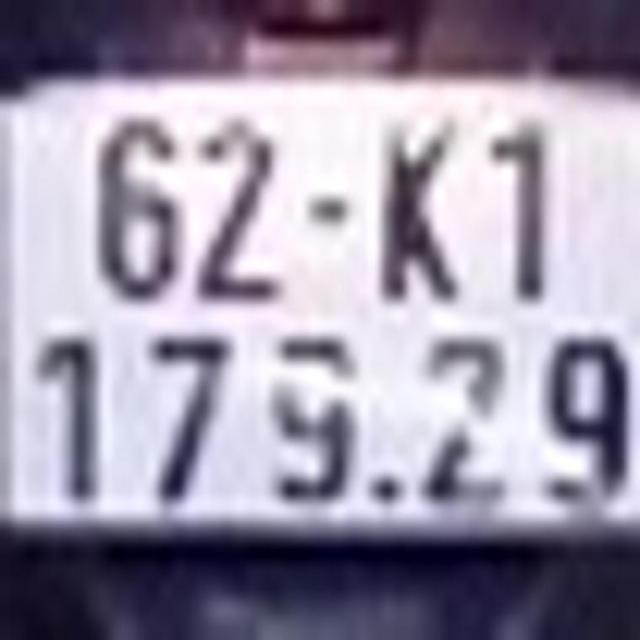1: (24, 325, 117, 498), (484, 100, 560, 308)
2: (193, 108, 289, 306), (415, 322, 515, 503)
6: (88, 104, 188, 299)
7: (137, 322, 240, 509)
9: (532, 326, 632, 508), (264, 319, 364, 500)
K: (370, 99, 466, 303)
